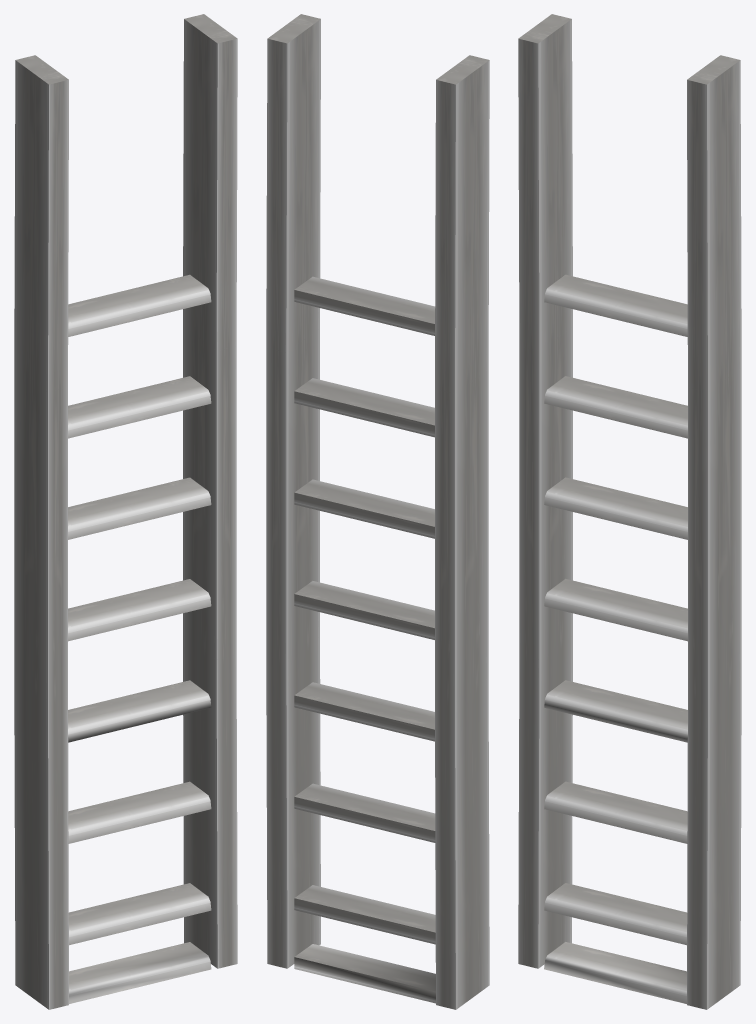
Rendered from Ladder.fbx.
3 views of the same model, side by side, from view 1: azimuth 30°, elevation 25°; view 2: azimuth 150°, elevation 25°; view 3: azimuth 330°, elevation 25° (orthographic).
Visible parts, largest first — view 1: originalbed.001, originalbed.002; view 2: originalbed.001, originalbed.002; view 3: originalbed.001, originalbed.002.
Part boxes in pixels (x1,y1,x2,y2): originalbed.001: [14, 14, 237, 1009]; originalbed.002: [69, 942, 211, 1003]; originalbed.001: [266, 14, 489, 1009]; originalbed.002: [294, 944, 435, 1003]; originalbed.001: [518, 14, 741, 1009]; originalbed.002: [544, 942, 686, 1003].
Size of the model in its own units: 76.19 by 359 by 24.33.
